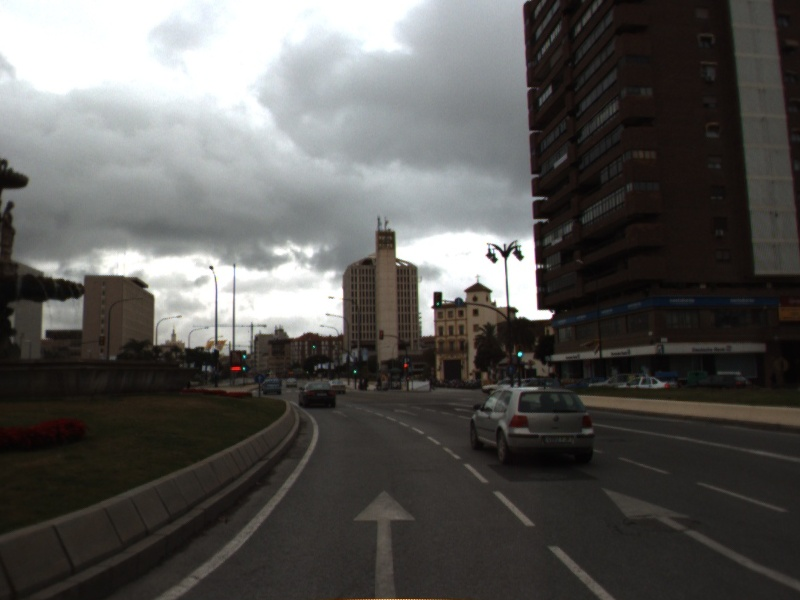STRAIGHT: (598, 483, 800, 591), (348, 486, 419, 600)
